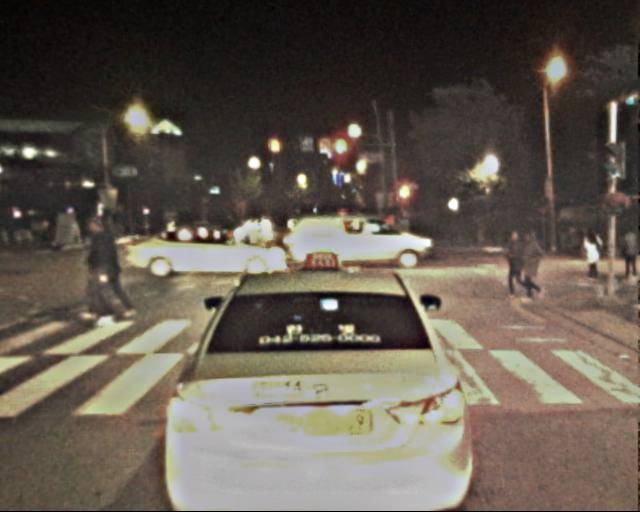person: (82, 210, 127, 320), (516, 230, 546, 302), (504, 228, 532, 297), (581, 222, 607, 286), (617, 229, 640, 285)
